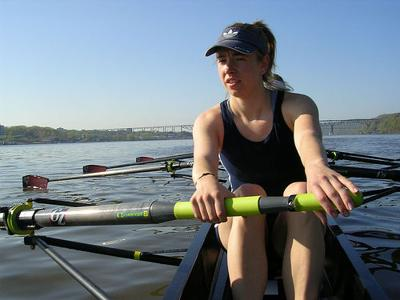person: (188, 18, 357, 300)
